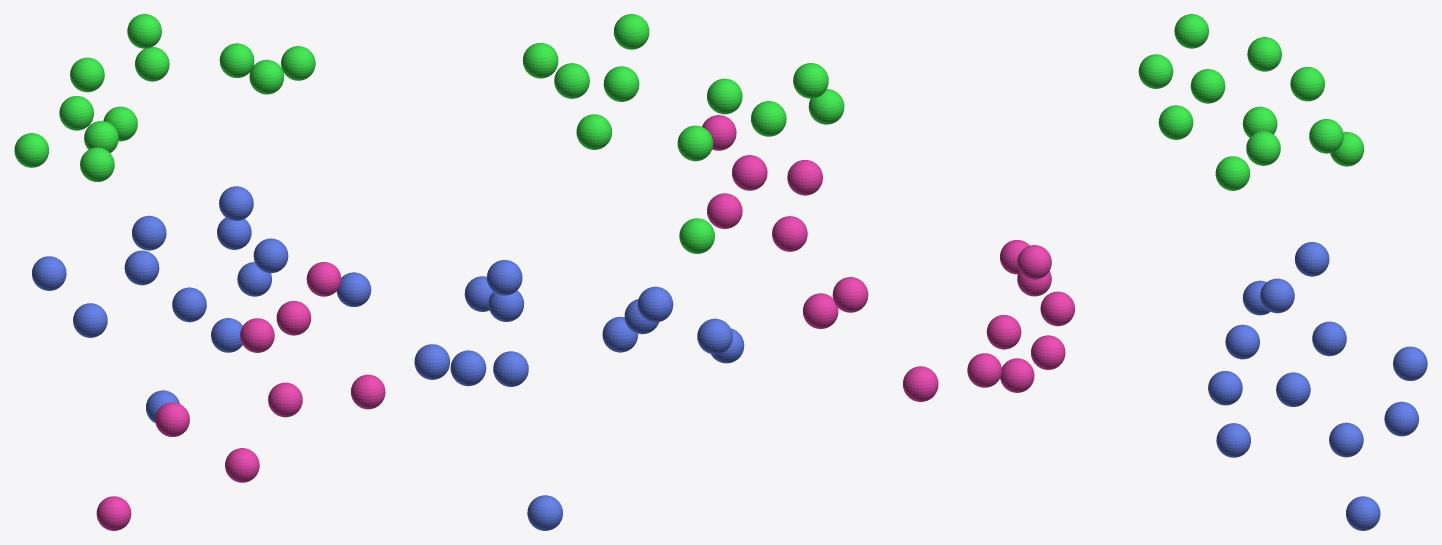
File: clusters3d.glb
The picture shows the model from 3 angles, left to right: view 1: azimuth 30°, elevation 25°; view 2: azimuth 150°, elevation 25°; view 3: azimuth 270°, elevation 25°; orthographic projection. The views are drawn at different scales.
Parts seen in each view (by area): view 1: Sphere.003, Sphere.017, Sphere.001, Sphere.002, Sphere.019, Sphere.009, Bola_0, Sphere.006, Sphere.027, Sphere.020, Sphere.029, Sphere.005 (+19 smaller); view 2: Sphere.014, Sphere.015, Sphere.020, Sphere.002, Sphere.004, Sphere.007, Sphere.026, Sphere.028, Bola_0, Sphere.001, Sphere.003, Sphere.008 (+18 smaller); view 3: Sphere.007, Sphere.018, Sphere.028, Sphere.027, Sphere.023, Sphere.026, Sphere.011, Sphere.017, Sphere.024, Bola_0, Sphere, Sphere.001 (+19 smaller).
Boxes of the visible parts, x1,y1,x2,y2 form: Sphere.003: (70,57,104,92); Sphere.017: (172,287,206,322); Sphere.001: (96,496,131,530); Sphere.002: (268,382,302,417); Sphere.019: (306,262,341,296); Sphere.009: (127,14,161,48); Bola_0: (132,215,166,250); Sphere.006: (14,133,48,167); Sphere.027: (219,186,253,220); Sphere.020: (219,43,254,77); Sphere.029: (351,374,385,409); Sphere.005: (225,448,259,482); Sphere.014: (677,125,713,161); Sphere.015: (697,318,732,354); Sphere.020: (554,63,589,98); Sphere.002: (772,216,807,251); Sphere.004: (793,63,828,98); Sphere.007: (613,14,649,49); Sphere.026: (751,101,786,136); Sphere.028: (637,286,673,322); Bola_0: (493,351,528,386); Sphere.001: (903,366,938,401); Sphere.003: (707,78,742,114); Sphere.008: (576,114,611,149); Sphere.007: (1158,105,1193,139); Sphere.018: (1329,422,1363,457); Sphere.028: (1260,278,1294,313); Sphere.027: (1312,321,1346,356); Sphere.023: (1138,54,1173,88); Sphere.026: (1190,69,1225,103); Sphere.011: (1384,401,1418,436); Sphere.017: (1225,324,1259,359); Sphere.024: (1215,156,1250,190); Bola_0: (1393,346,1427,380); Sphere: (1040,291,1074,326); Sphere.001: (1031,335,1065,369).
Size of the model in its own units: 24.1 by 27.88 by 26.53.
